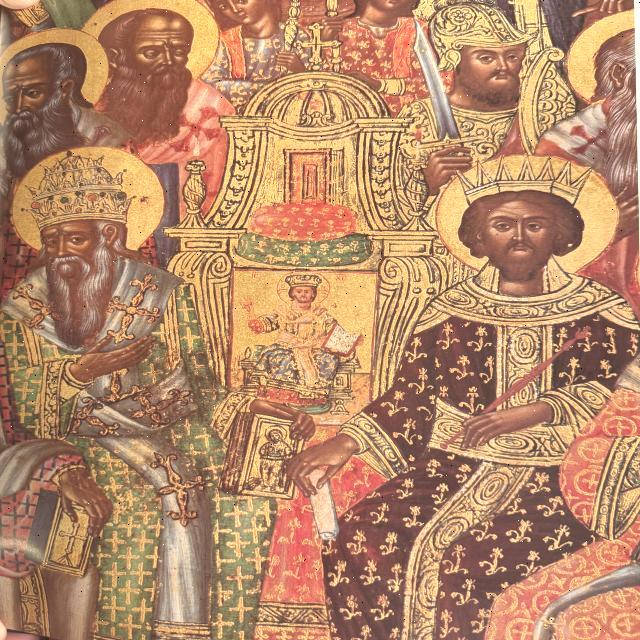aura: (428, 153, 620, 277), (1, 144, 173, 264), (82, 1, 222, 82), (7, 28, 106, 117), (276, 272, 335, 308)
book: (219, 411, 305, 493), (322, 324, 366, 360)
crown: (27, 154, 139, 226), (449, 155, 601, 203)
saint: (295, 154, 640, 640), (1, 148, 249, 634), (89, 2, 233, 175), (1, 27, 101, 157)
scepter: (432, 324, 592, 452)
scroll: (294, 464, 348, 548)
shield: (516, 46, 582, 146)
sword: (403, 20, 485, 156)
